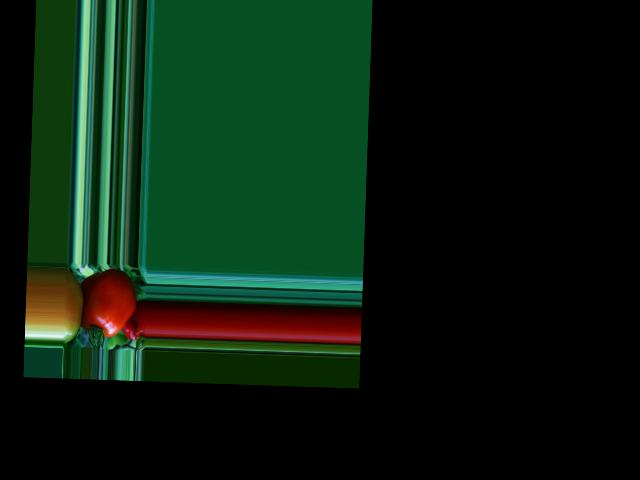tomato: (81, 268, 137, 338)
